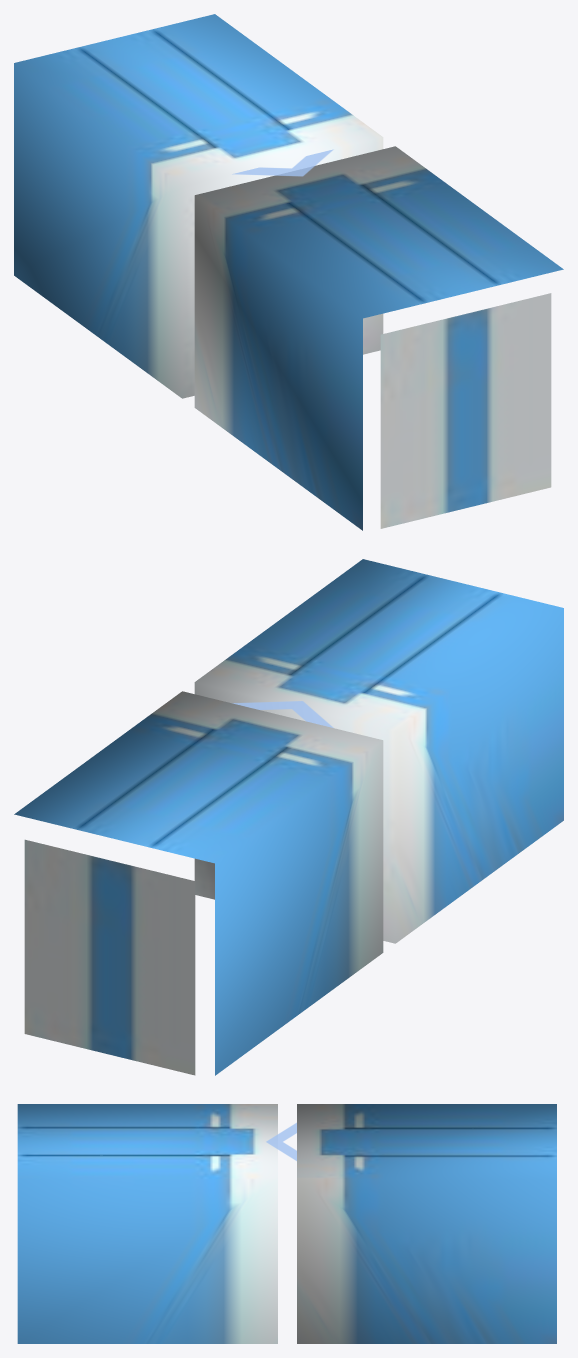
The model's file is sorter-mk3-lod2.glb.
3 views of the same model, one above another, from view 1: azimuth 30°, elevation 25°; view 2: azimuth 150°, elevation 25°; view 3: azimuth 270°, elevation 25° (orthographic). The views are drawn at different scales.
Visible parts, largest first — view 1: ARail, BRail, BCap, arrow; view 2: BRail, ARail, ACap, arrow; view 3: BRail, ARail, arrow.
Boxes of the visible parts, <box> form: ARail: <box>14,14,383,398</box>; BRail: <box>194,146,563,530</box>; BCap: <box>380,293,551,528</box>; arrow: <box>232,149,333,176</box>; BRail: <box>194,559,563,943</box>; ARail: <box>14,691,383,1075</box>; ACap: <box>24,839,195,1075</box>; arrow: <box>232,701,333,727</box>; BRail: <box>17,1104,277,1343</box>; ARail: <box>297,1104,556,1343</box>; arrow: <box>266,1122,296,1160</box>.
Bounding box in the file's own units: 0.99 × 1 × 3.04.
Materials: 2 (2 with a texture image).
